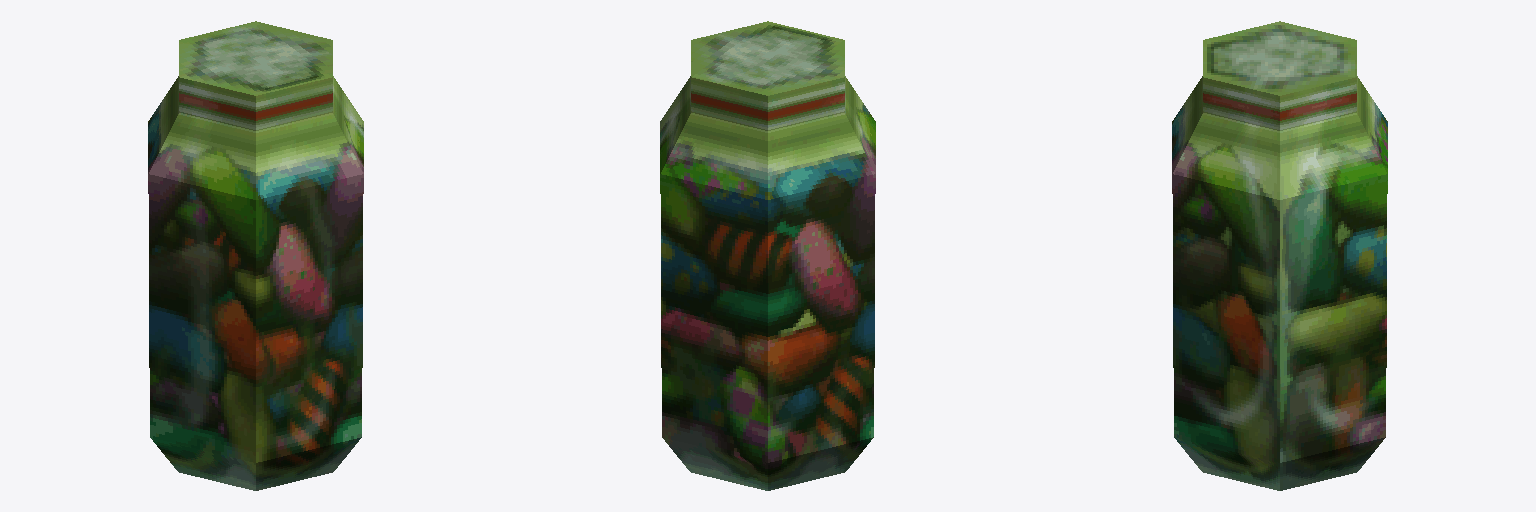
3 views of the same model, side by side, from view 1: azimuth 30°, elevation 25°; view 2: azimuth 150°, elevation 25°; view 3: azimuth 270°, elevation 25° (orthographic).
Bounding box in the file's own units: 14.77 × 25.87 × 12.79.
Materials: 1 (1 with a texture image).